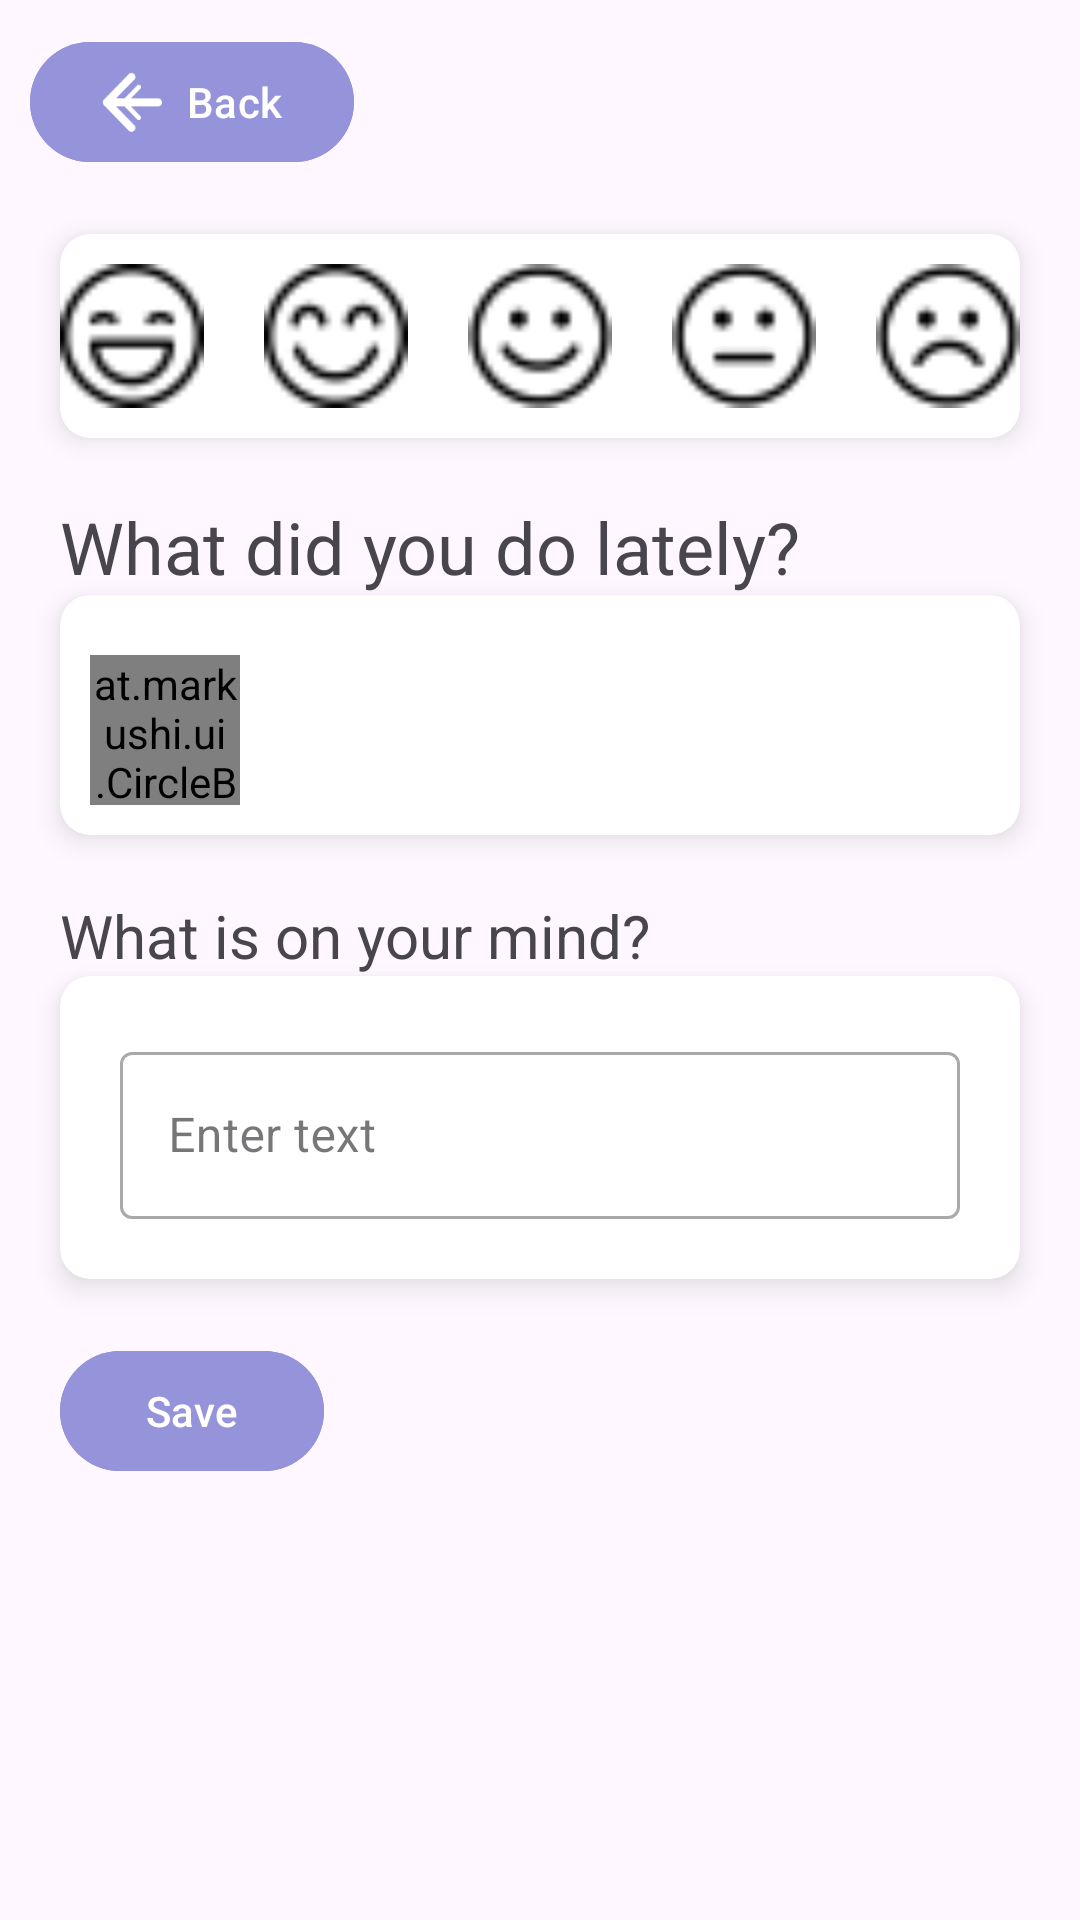

Point at icon controls on the screen. Image size 1080px×1920px, points as (x=x, y=y).
emotion bad: (x=948, y=336)
emotion good: (x=336, y=336)
emotion great: (x=132, y=336)
emotion notgood: (x=744, y=336)
emotion ok: (x=540, y=336)
